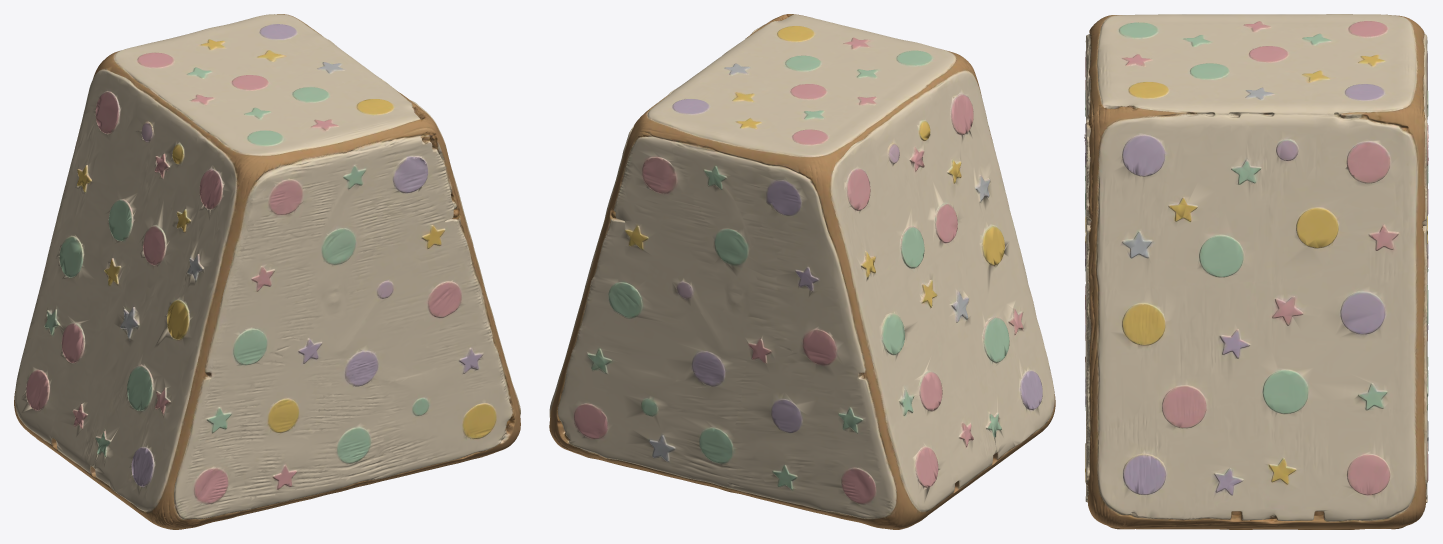
Rendered from 1_1_trapezoid.glb.
The picture shows the model from 3 angles, left to right: view 1: azimuth 30°, elevation 25°; view 2: azimuth 150°, elevation 25°; view 3: azimuth 270°, elevation 25°; orthographic projection. The views are drawn at different scales.
Parts seen in each view (by area): view 1: tripo_node_e107f422-de75-48d4-ac8e-45edde2d11ff; view 2: tripo_node_e107f422-de75-48d4-ac8e-45edde2d11ff; view 3: tripo_node_e107f422-de75-48d4-ac8e-45edde2d11ff.
Part boxes in pixels (x1,y1,x2,y2): tripo_node_e107f422-de75-48d4-ac8e-45edde2d11ff: (14,14,520,529); tripo_node_e107f422-de75-48d4-ac8e-45edde2d11ff: (549,14,1055,529); tripo_node_e107f422-de75-48d4-ac8e-45edde2d11ff: (1084,14,1428,529).
Size of the model in its own units: 0.9686 by 0.8873 by 0.7262.
1 material, 1 textured.
